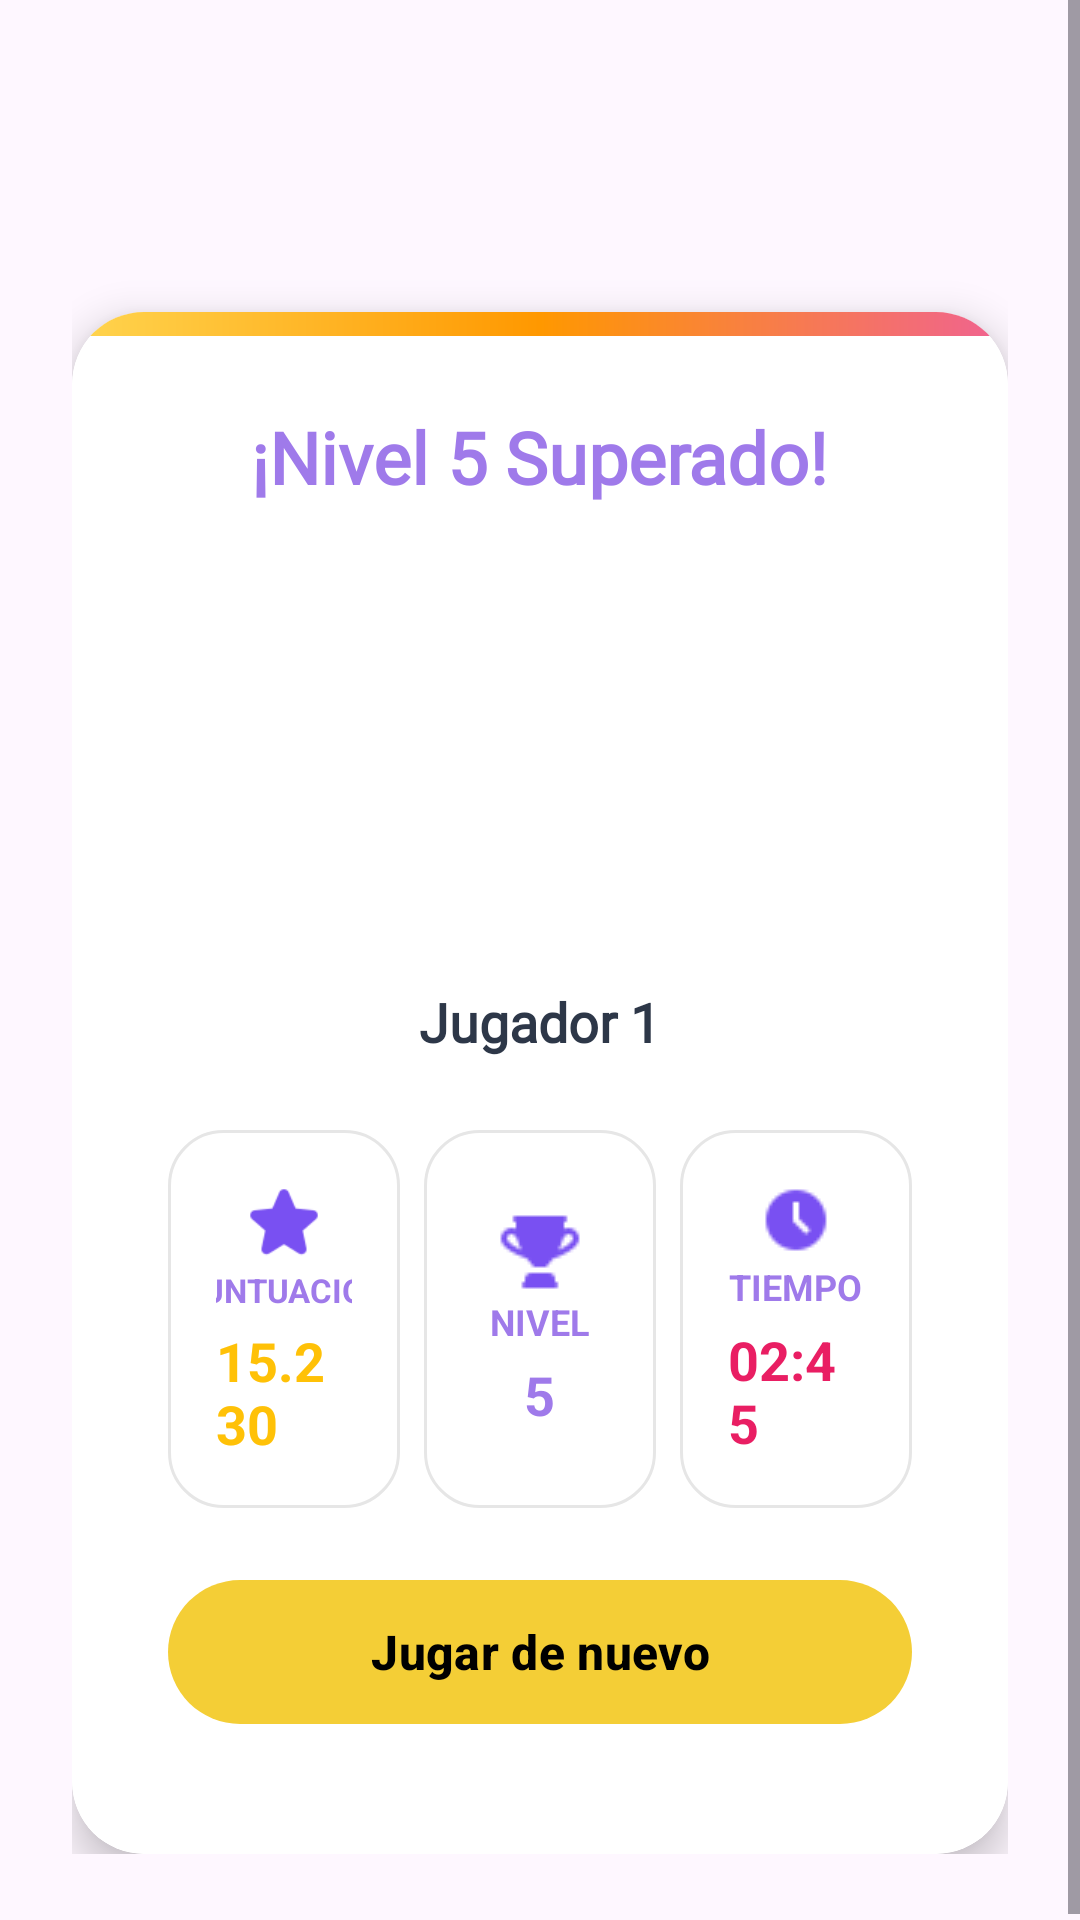

Point at icon controls on the screen. Image size 1080 x 1920, points as (x=x, y=y).
star: (x=284, y=1222)
trophy: (x=540, y=1252)
